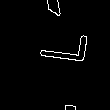L_W: (25, 36, 85, 74)
